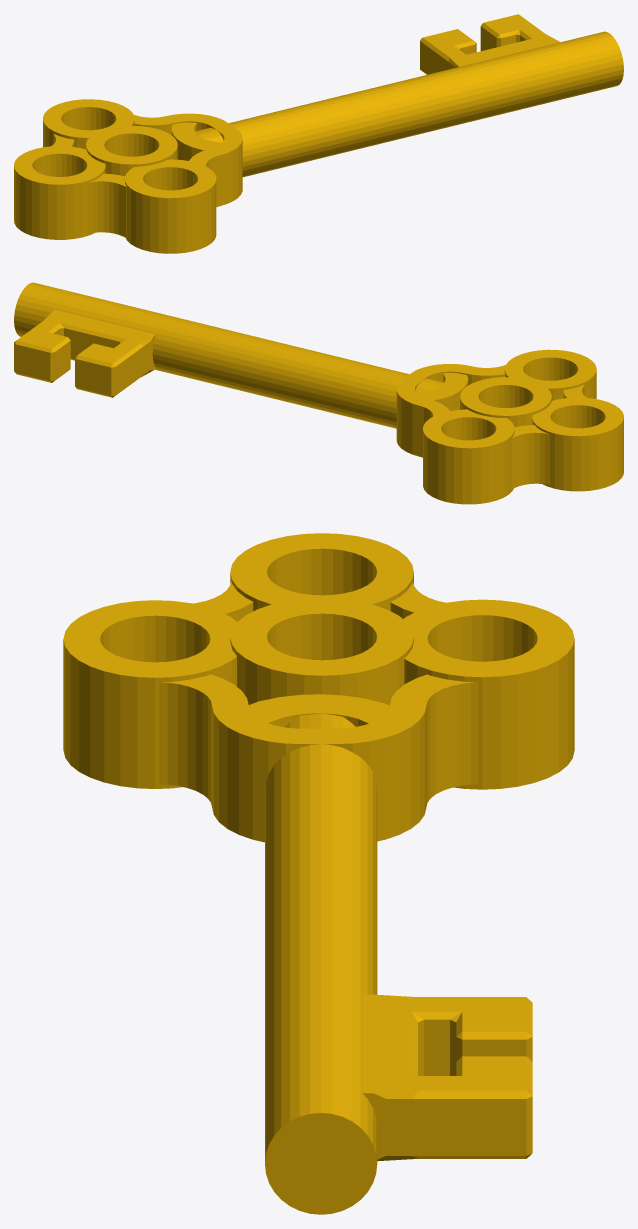
File: keyfragment2 1.fbx
3 renders of one model, top to bottom at view 1: azimuth 30°, elevation 25°; view 2: azimuth 150°, elevation 25°; view 3: azimuth 270°, elevation 25°, orthographic. The views are drawn at different scales.
Visible parts, largest first — view 1: Cylinder; view 2: Cylinder; view 3: Cylinder.
Part boxes in pixels (x1,y1,x2,y2): Cylinder: (14, 14, 623, 253); Cylinder: (14, 282, 623, 504); Cylinder: (63, 533, 574, 1214).
Size of the model in its own units: 242 by 23.56 by 90.95.
